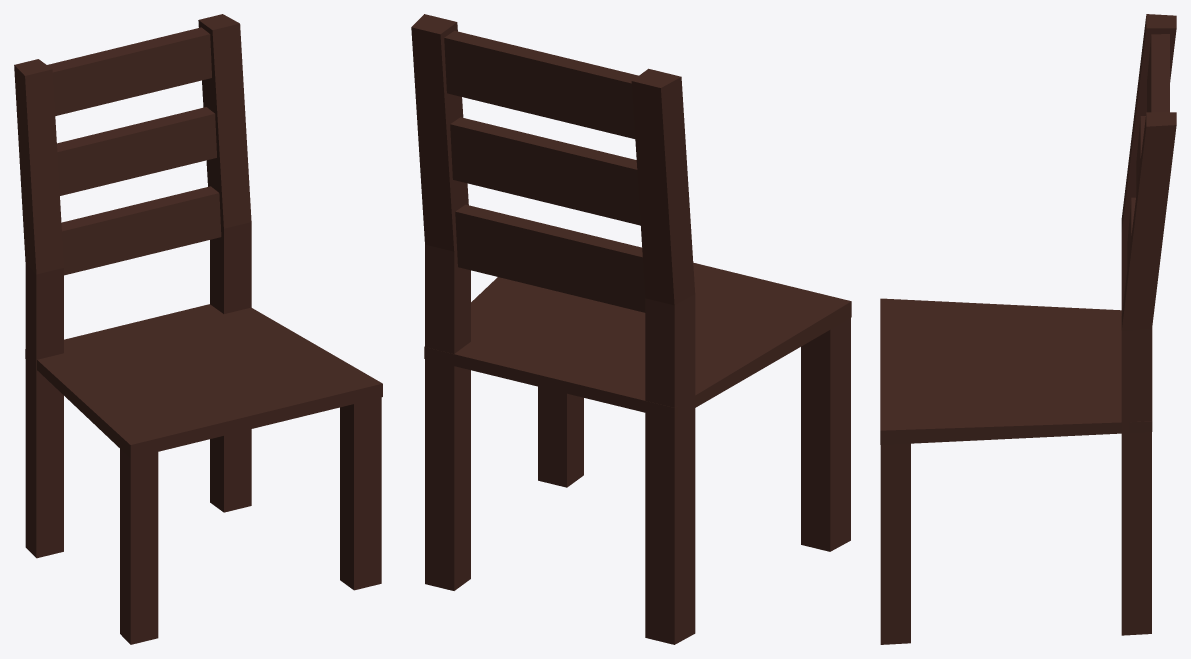
Rendered from Wooden Chair.fbx.
3 views of the same model, side by side, from view 1: azimuth 30°, elevation 25°; view 2: azimuth 150°, elevation 25°; view 3: azimuth 270°, elevation 25° (orthographic). The views are drawn at different scales.
Visible parts, largest first — view 1: Wooden Chair; view 2: Wooden Chair; view 3: Wooden Chair.
Part boxes in pixels (x1=…): Wooden Chair: x1=14, y1=14, x2=382, y2=644; Wooden Chair: x1=411, y1=14, x2=851, y2=644; Wooden Chair: x1=880, y1=14, x2=1176, y2=644.
Size of the model in its own units: 70.28 by 126 by 66.57.
